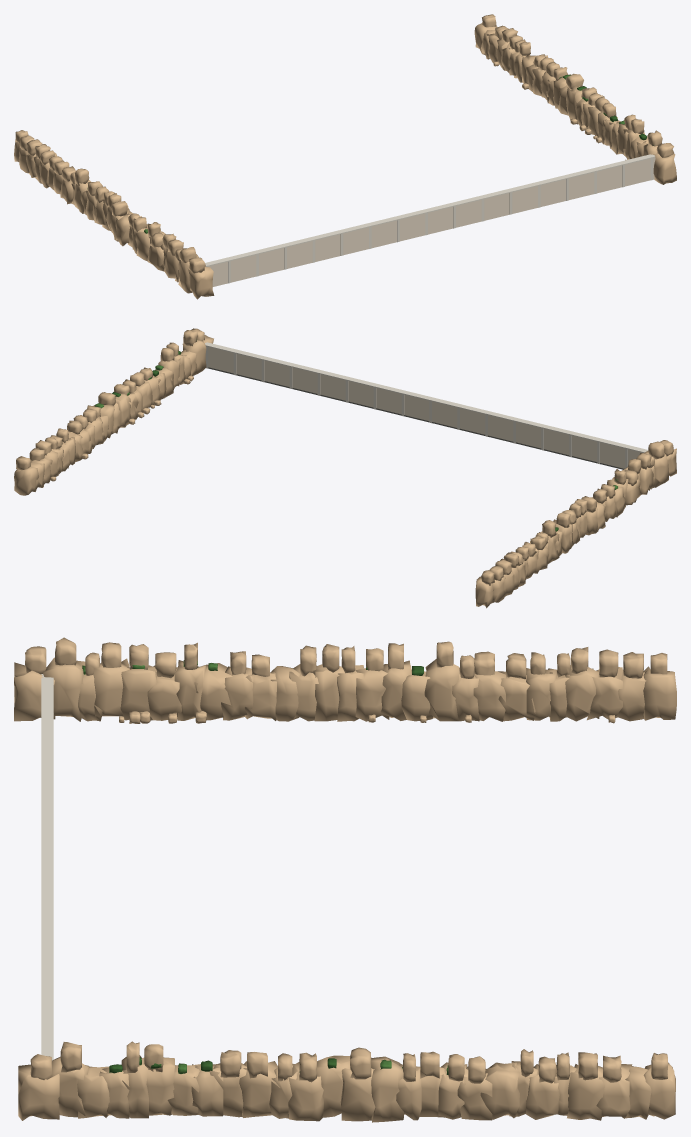
The model's file is gb-bluffs.glb.
3 renders of one model, top to bottom at view 1: azimuth 30°, elevation 25°; view 2: azimuth 150°, elevation 25°; view 3: azimuth 270°, elevation 25°, orthographic. The views are drawn at different scales.
Parts seen in each view (by area): view 1: gb-bluffs; view 2: gb-bluffs; view 3: gb-bluffs.
Part boxes in pixels (left/top/right/bottom): gb-bluffs: left=14, top=14, right=676, bottom=299; gb-bluffs: left=14, top=328, right=676, bottom=608; gb-bluffs: left=14, top=637, right=676, bottom=1122.
Size of the model in its own units: 138 by 10.66 by 92.53.
